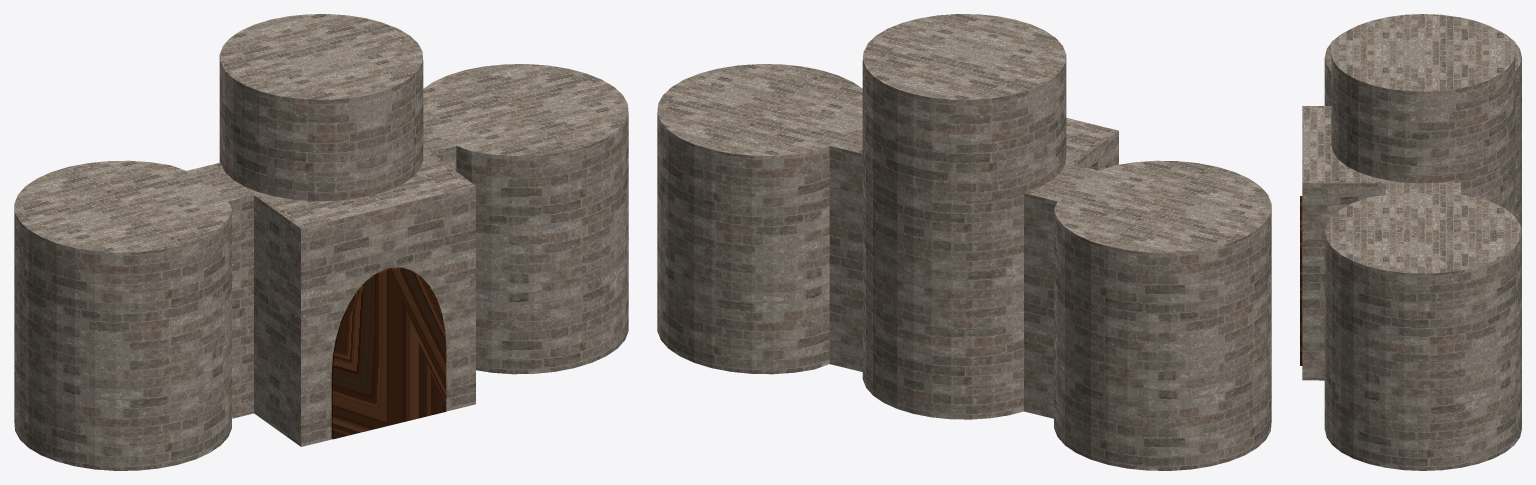
Rendered from interior.glb.
The picture shows the model from 3 angles, left to right: view 1: azimuth 30°, elevation 25°; view 2: azimuth 150°, elevation 25°; view 3: azimuth 270°, elevation 25°; orthographic projection. The views are drawn at different scales.
Parts seen in each view (by area): view 1: interior, door; view 2: interior; view 3: interior, door.
Part boxes in pixels (x1,y1,x2,y2): interior: (14,14,628,470); door: (331,267,446,439); interior: (657,14,1271,470); interior: (1302,14,1521,470); door: (1300,196,1302,365).
Size of the model in its own units: 6.68 by 3.49 by 2.43.
3 materials, 3 textured.
